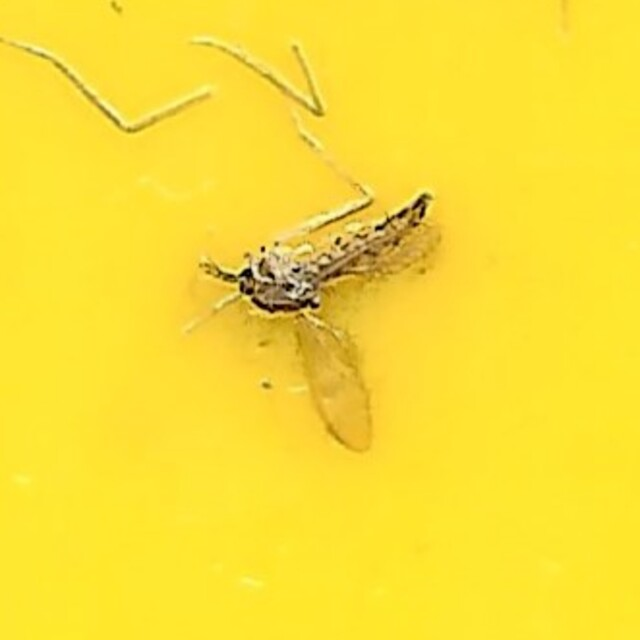Nematocera: (193, 186, 447, 454)
